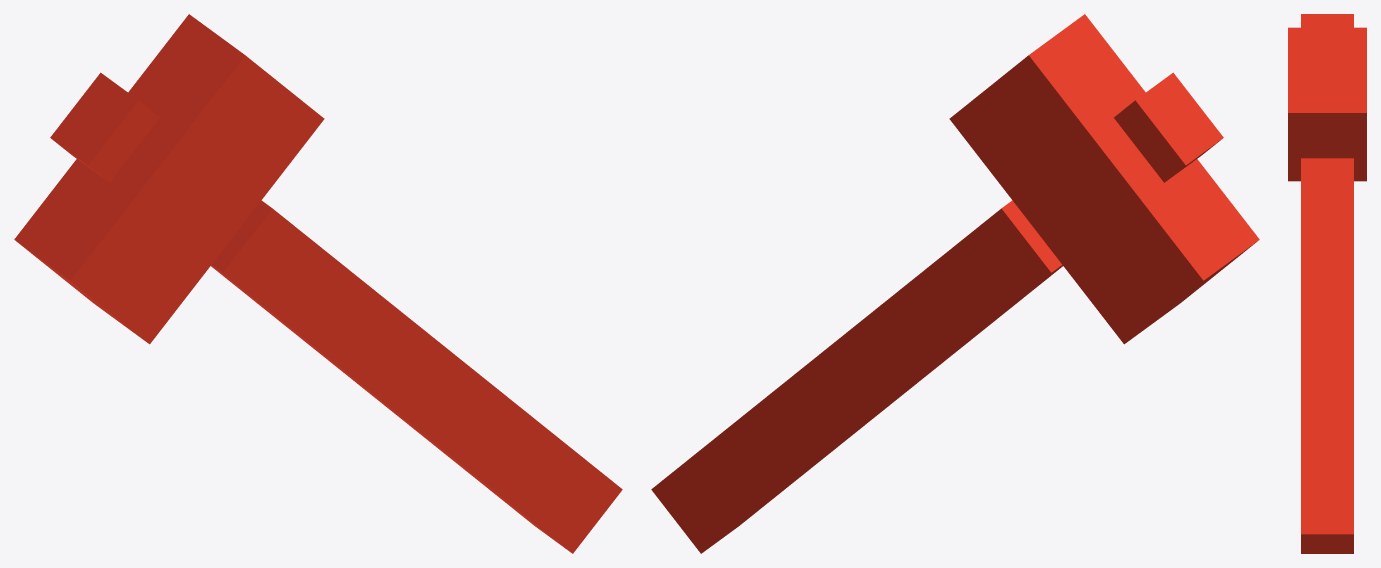
Rendered from Icon_Repair_02.fbx.
The picture shows the model from 3 angles, left to right: view 1: azimuth 30°, elevation 25°; view 2: azimuth 150°, elevation 25°; view 3: azimuth 270°, elevation 25°; orthographic projection. The views are drawn at different scales.
Parts seen in each view (by area): view 1: Icon_Repair_02; view 2: Icon_Repair_02; view 3: Icon_Repair_02.
Part boxes in pixels (left/top/right/bottom): Icon_Repair_02: left=14, top=14, right=622, bottom=553; Icon_Repair_02: left=651, top=14, right=1259, bottom=553; Icon_Repair_02: left=1288, top=14, right=1366, bottom=553.
Bounding box in the file's own units: 69.55 × 69.55 × 12.06.
